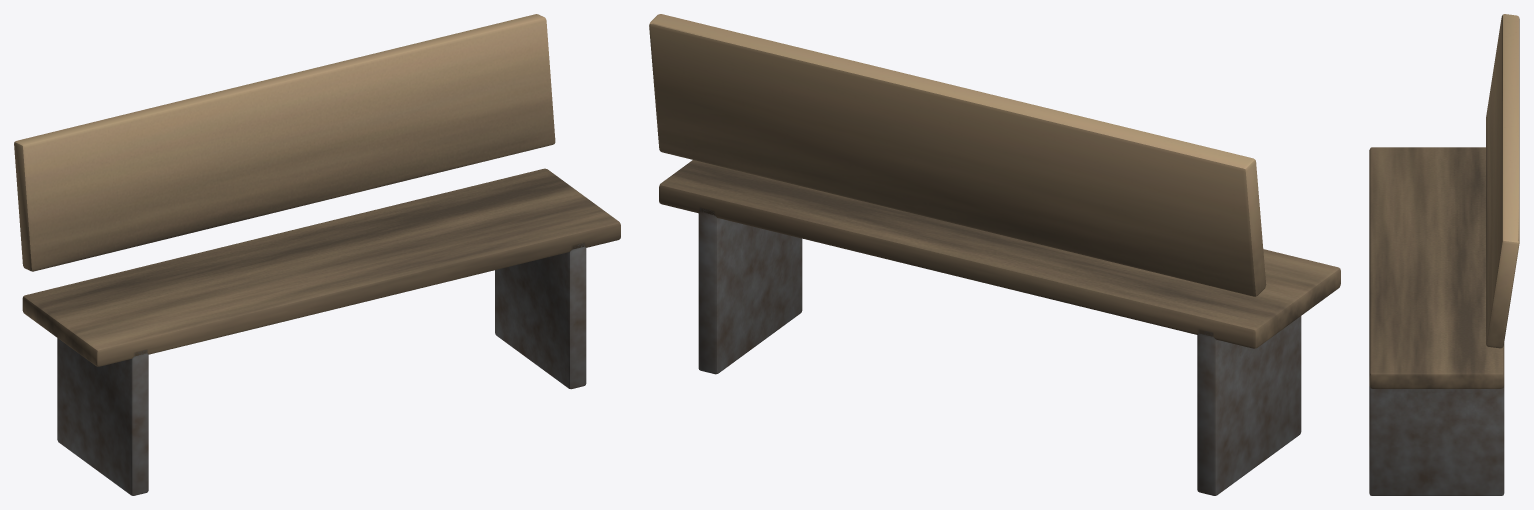
The model's file is g67_pz_bench.glb.
The picture shows the model from 3 angles, left to right: view 1: azimuth 30°, elevation 25°; view 2: azimuth 150°, elevation 25°; view 3: azimuth 270°, elevation 25°; orthographic projection. The views are drawn at different scales.
Parts seen in each view (by area): view 1: g67_pz_bench; view 2: g67_pz_bench; view 3: g67_pz_bench.
Part boxes in pixels (<box>): g67_pz_bench: <box>14,14,620,495</box>; g67_pz_bench: <box>649,14,1340,495</box>; g67_pz_bench: <box>1369,14,1519,495</box>.
Size of the model in its own units: 1.8 by 1 by 0.5012.
Materials: 1 (1 with a texture image).
